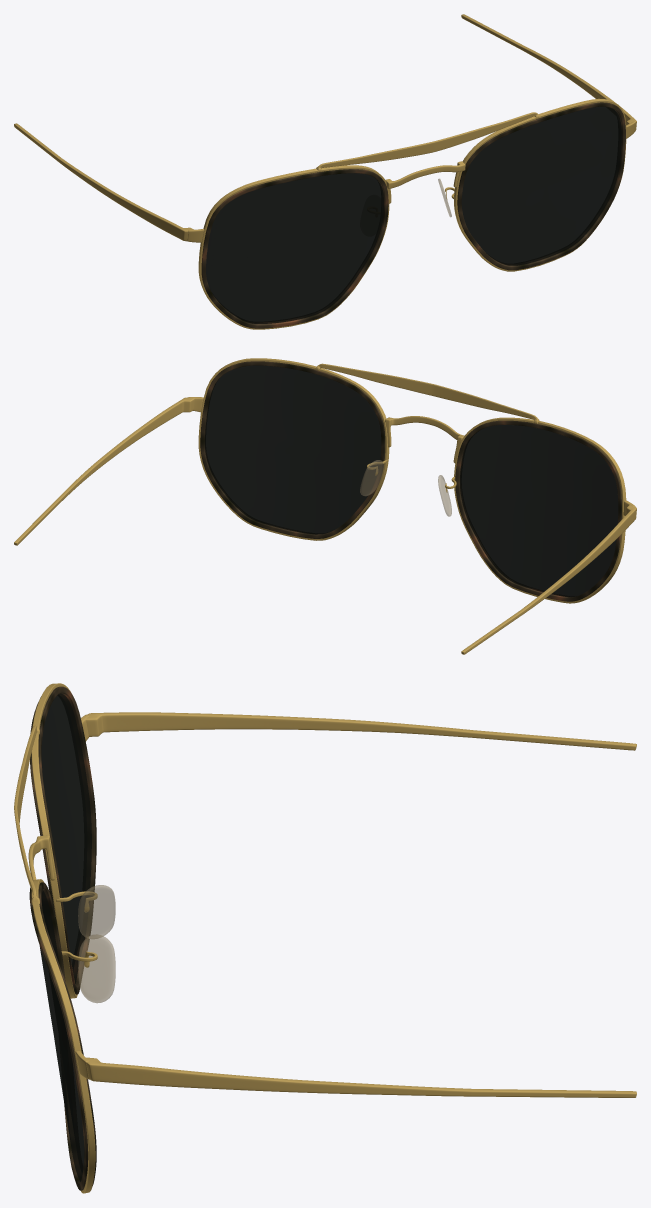
The model's file is marshal_app.glb.
3 renders of one model, top to bottom at view 1: azimuth 30°, elevation 25°; view 2: azimuth 150°, elevation 25°; view 3: azimuth 270°, elevation 25°, orthographic. The views are drawn at different scales.
Visible parts, largest first — view 1: lentes, armacao, acetato; view 2: lentes, armacao, acetato, ponte; view 3: armacao, lentes, acetato, ponte.
Boxes of the visible parts, <box> form: lentes: <box>206,106,621,323</box>; armacao: <box>14,14,636,329</box>; acetato: <box>201,102,625,328</box>; lentes: <box>205,365,618,597</box>; armacao: <box>14,358,636,654</box>; acetato: <box>200,361,621,601</box>; ponte: <box>360,460,451,516</box>; armacao: <box>14,683,636,1193</box>; lentes: <box>39,693,91,1181</box>; acetato: <box>29,686,96,1190</box>; ponte: <box>78,885,115,1003</box>.
Size of the model in its own units: 0.159 by 0.0542 by 0.1144.
4 materials, 4 textured.
